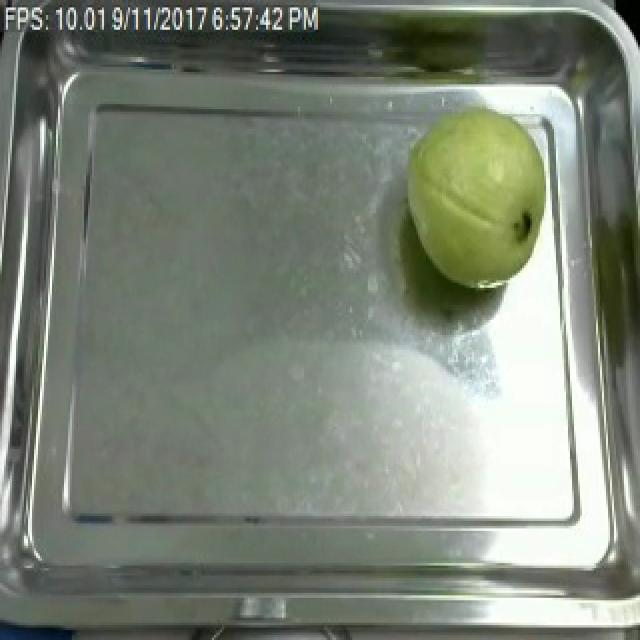Fruit: (394, 102, 560, 300)
